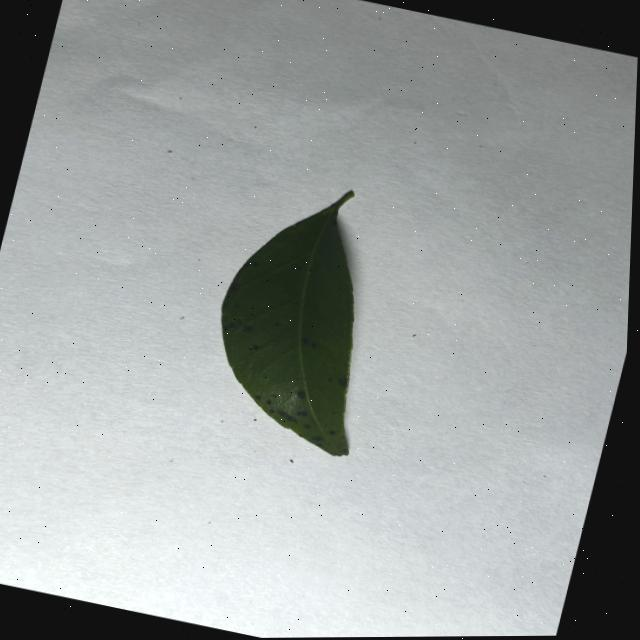sooty_mold: (220, 190, 352, 454)
